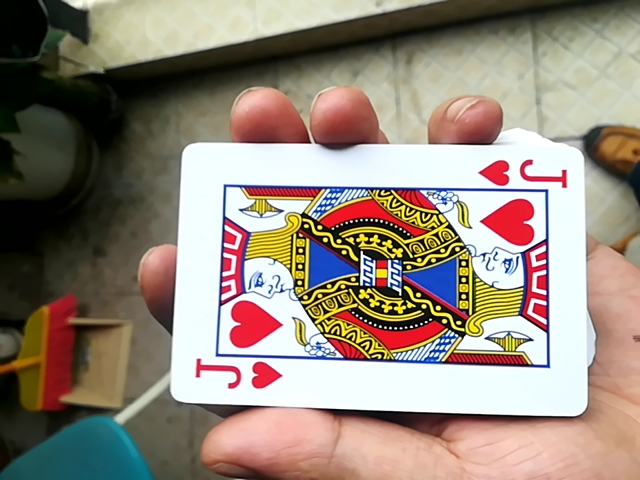hx j: (151, 135, 584, 422)
